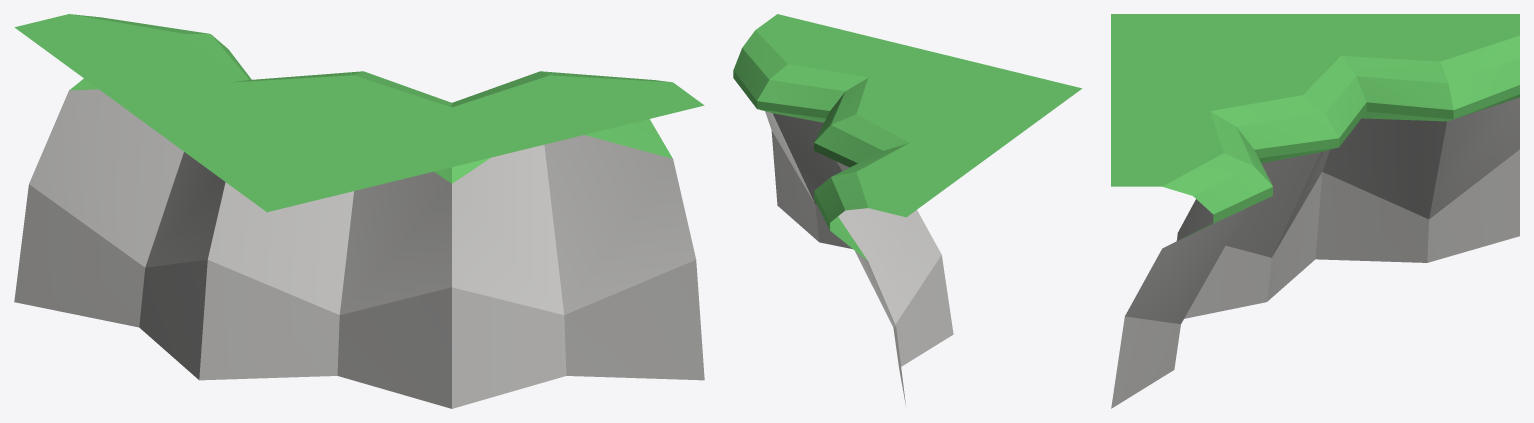
File: Cliff_Terrain_Corner_Inner_2x2_Top.glb
3 renders of one model, left to right at view 1: azimuth 30°, elevation 25°; view 2: azimuth 150°, elevation 25°; view 3: azimuth 270°, elevation 25°, orthographic. The views are drawn at different scales.
Visible parts, largest first — view 1: Cliff_Terrain_Corner_Inner_2x2_Top; view 2: Cliff_Terrain_Corner_Inner_2x2_Top; view 3: Cliff_Terrain_Corner_Inner_2x2_Top.
Boxes of the visible parts, box(x1,y1,x2,y2) form: Cliff_Terrain_Corner_Inner_2x2_Top: box(14, 14, 704, 408); Cliff_Terrain_Corner_Inner_2x2_Top: box(733, 14, 1082, 407); Cliff_Terrain_Corner_Inner_2x2_Top: box(1111, 14, 1519, 408).
Bounding box in the file's own units: 1.06 × 0.636 × 1.06.
